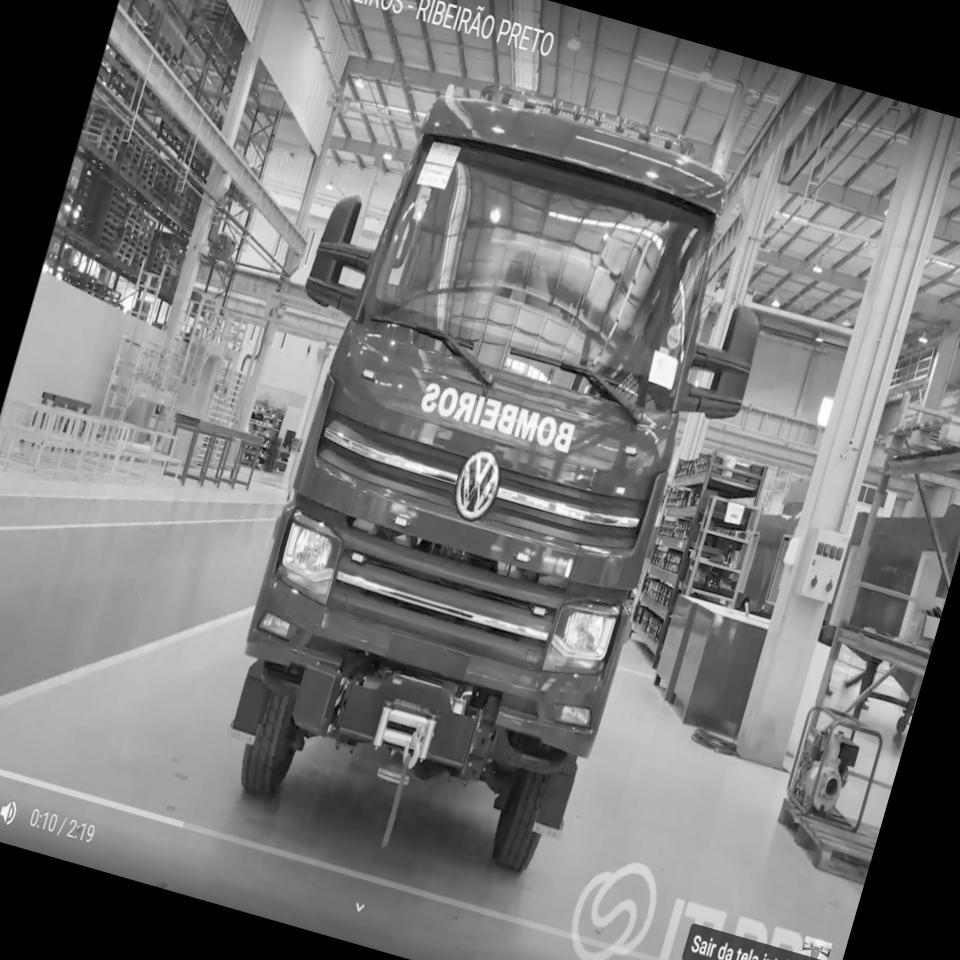viatura: (166, 39, 815, 890)
